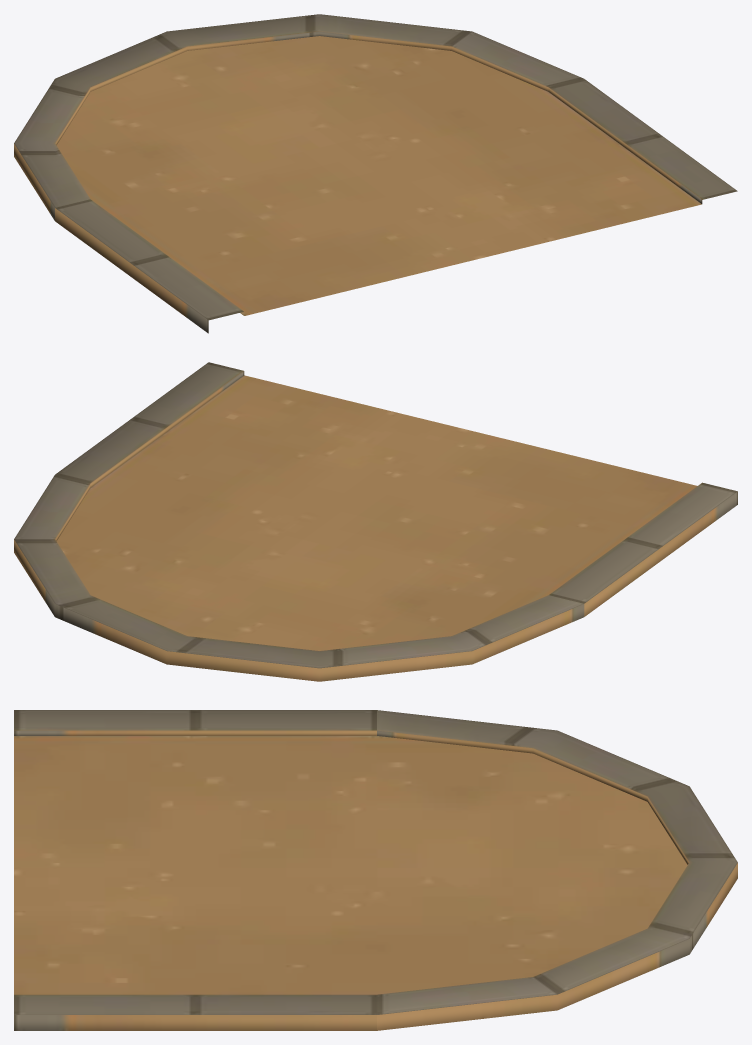
File: tile.end.glb
3 renders of one model, top to bottom at view 1: azimuth 30°, elevation 25°; view 2: azimuth 150°, elevation 25°; view 3: azimuth 270°, elevation 25°, orthographic. The views are drawn at different scales.
Parts seen in each view (by area): view 1: path.tile.end; view 2: path.tile.end; view 3: path.tile.end.
Part boxes in pixels (x1,y1,x2,y2): path.tile.end: [14, 14, 737, 333]; path.tile.end: [14, 362, 737, 681]; path.tile.end: [14, 710, 737, 1030].
Size of the model in its own units: 0.994 by 0.024 by 0.997.
1 material, 1 textured.
